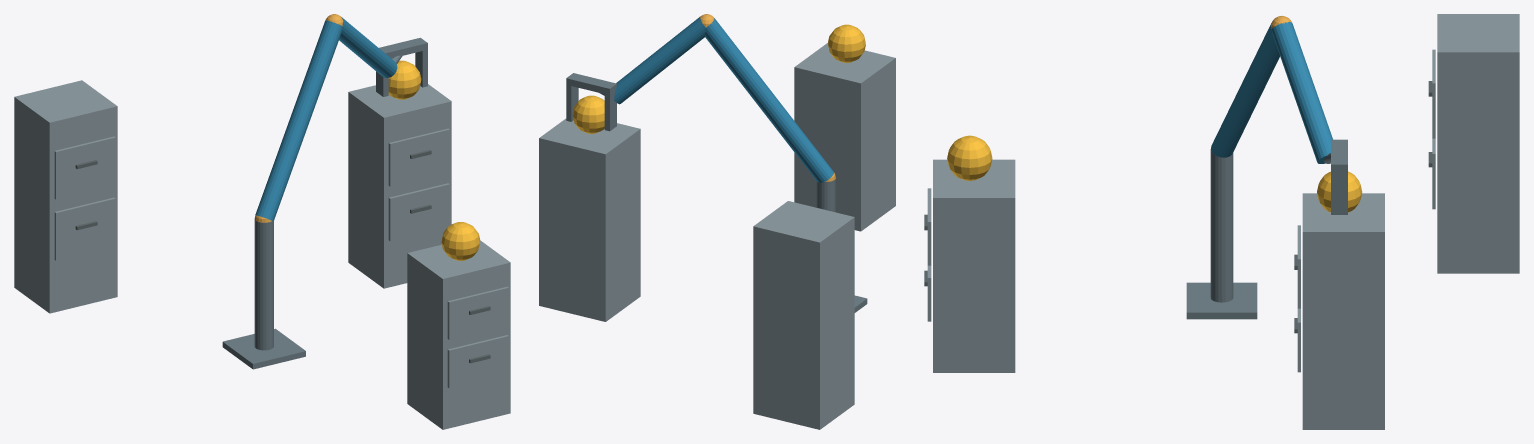
The picture shows the model from 3 angles, left to right: view 1: azimuth 30°, elevation 25°; view 2: azimuth 150°, elevation 25°; view 3: azimuth 270°, elevation 25°; orthographic projection. The views are drawn at different scales.
Parts seen in each view (by area): view 1: cabinet_3 body, cabinet_1 body, cabinet_2 body, moving link 1, cabinet_3 drawer front.001, cabinet_3 drawer front, cabinet_2 drawer front.001, cabinet_2 drawer front, fixed post, cabinet_1 drawer front.001, cabinet_1 drawer front, pedestal (+4 smaller); view 2: cabinet_3 body, cabinet_2 body, cabinet_1 body, moving link 1, moving link 2, released ball_1, ball ball_2, gripper bridge, fixed post, gripper finger -1, gripper finger 1; view 3: cabinet_3 body, cabinet_2 body, cabinet_1 body, fixed post, moving link 2, moving link 1, pedestal, released ball_1, ball ball_2, gripper finger 1, gripper bridge.
Boxes of the visible parts, box(x1,y1,x2,y2) form: cabinet_3 body: box(14, 80, 117, 313); cabinet_1 body: box(407, 240, 510, 429); cabinet_2 body: box(348, 84, 451, 288); moving link 1: box(255, 20, 342, 220); cabinet_3 drawer front.001: box(54, 136, 115, 199); cabinet_3 drawer front: box(54, 197, 115, 260); cabinet_2 drawer front.001: box(388, 128, 449, 186); cabinet_2 drawer front: box(388, 183, 449, 241); fixed post: box(254, 220, 273, 350); cabinet_1 drawer front.001: box(447, 286, 508, 339); cabinet_1 drawer front: box(447, 335, 508, 388); pedestal: box(222, 328, 305, 369); cabinet_3 body: box(753, 201, 854, 429); cabinet_2 body: box(539, 118, 640, 321); cabinet_1 body: box(794, 43, 895, 231); moving link 1: box(705, 18, 833, 182); moving link 2: box(614, 17, 705, 104); released ball_1: box(828, 24, 865, 62); ball ball_2: box(572, 95, 604, 133); gripper bridge: box(566, 73, 616, 95); fixed post: box(816, 179, 835, 212); gripper finger -1: box(604, 92, 616, 131); gripper finger 1: box(566, 85, 578, 121); cabinet_3 body: box(1437, 14, 1519, 273); cabinet_2 body: box(1302, 193, 1384, 429); cabinet_1 body: box(933, 159, 1015, 372); fixed post: box(1210, 150, 1233, 302); moving link 2: box(1271, 22, 1332, 163); moving link 1: box(1211, 21, 1279, 157); pedestal: box(1186, 282, 1257, 319); released ball_1: box(947, 135, 992, 180); ball ball_2: box(1317, 171, 1362, 212); gripper finger 1: box(1331, 172, 1347, 214); gripper bridge: box(1331, 139, 1347, 172).
Size of the model in its own units: 1.62 by 1.33 by 2.1.
